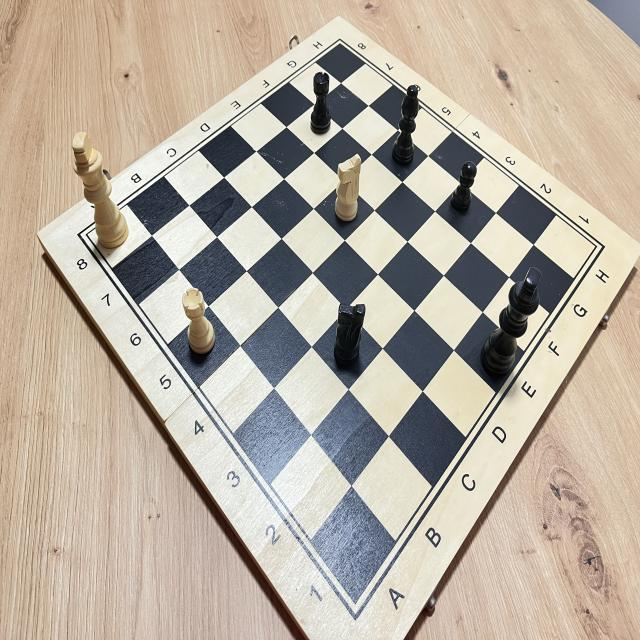black-bishop: (388, 81, 424, 179)
black-king: (478, 259, 547, 384)
black-knight: (328, 288, 369, 370)
black-pawn: (445, 151, 485, 226)
black-rook: (301, 67, 339, 143)
white-king: (68, 123, 129, 255)
white-knight: (331, 147, 365, 226)
white-rook: (176, 274, 223, 369)
